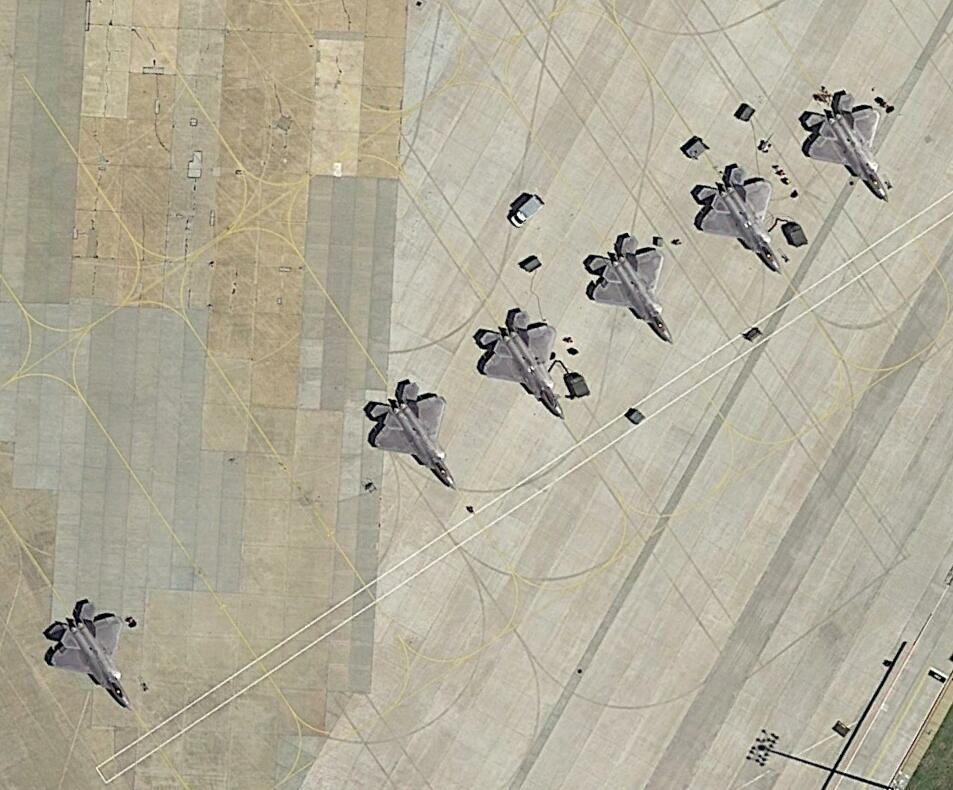A15: (366, 379, 465, 496), (582, 233, 676, 348), (475, 305, 568, 421), (42, 594, 133, 712), (804, 90, 894, 206), (694, 163, 785, 276)
